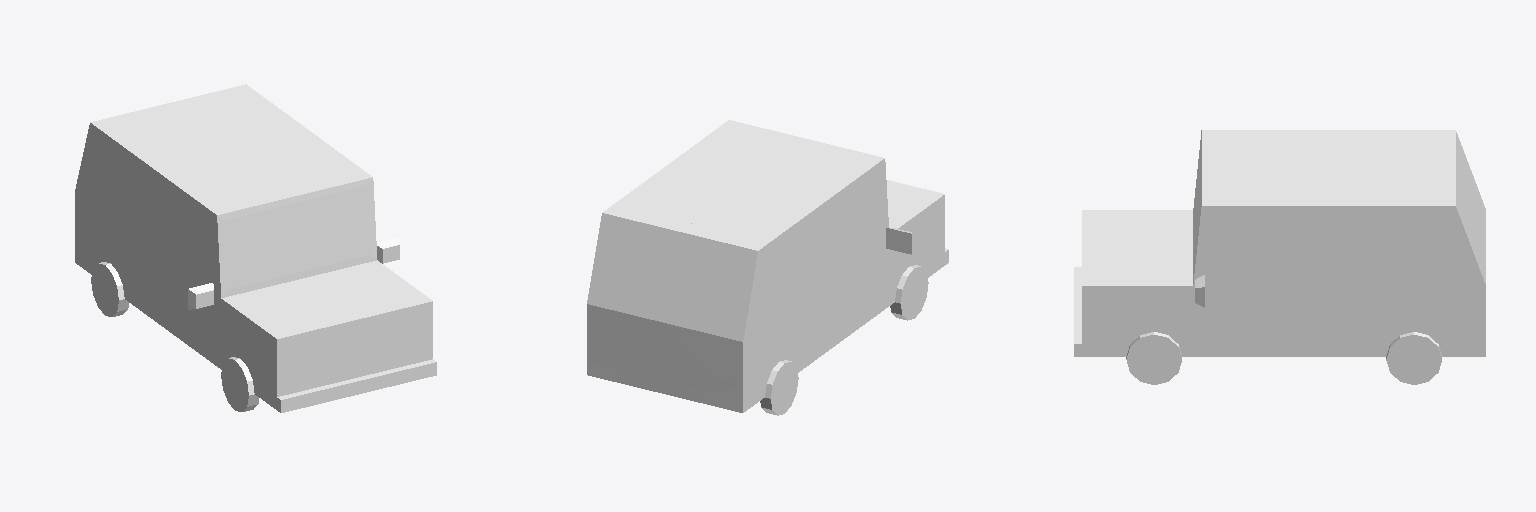
The model's file is Car2.obj.
The picture shows the model from 3 angles: view 1: azimuth 30°, elevation 25°; view 2: azimuth 150°, elevation 25°; view 3: azimuth 270°, elevation 25°; orthographic projection.
Parts seen in each view (by area): view 1: car_mesh_Mesh.001; view 2: car_mesh_Mesh.001; view 3: car_mesh_Mesh.001.
Boxes of the visible parts, x1,y1,x2,y2 form: car_mesh_Mesh.001: [75, 84, 436, 412]; car_mesh_Mesh.001: [587, 120, 948, 415]; car_mesh_Mesh.001: [1074, 130, 1485, 384].
Bounding box in the file's own units: 3.16 × 2.52 × 5.32.